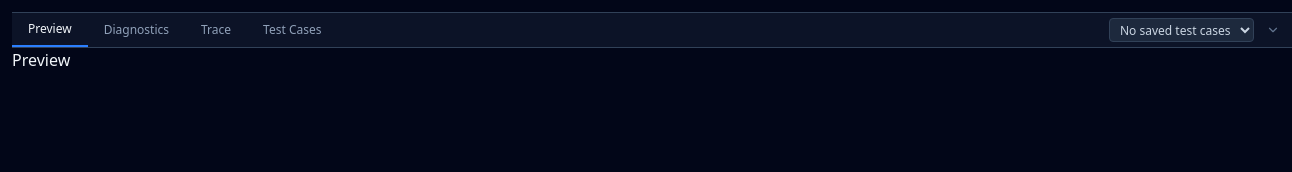
Test case: BottomArea › collapse toggle has correct aria-expanded attribute
Click the button with test id "bottom-collapse-toggle" at (1273, 30), box x1=1262 y1=19 x2=1284 y2=41
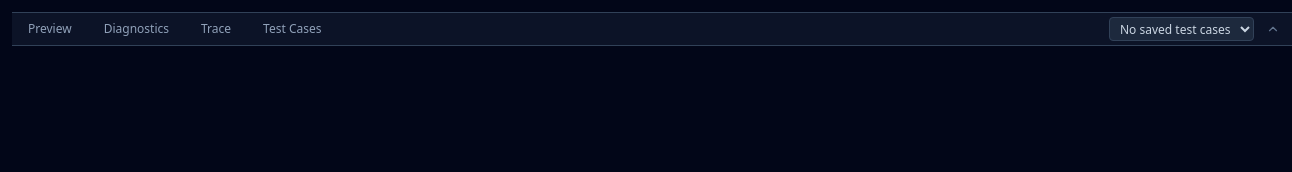
Now the button with test id "bottom-collapse-toggle" is collapsed, box x1=1262 y1=18 x2=1284 y2=40
